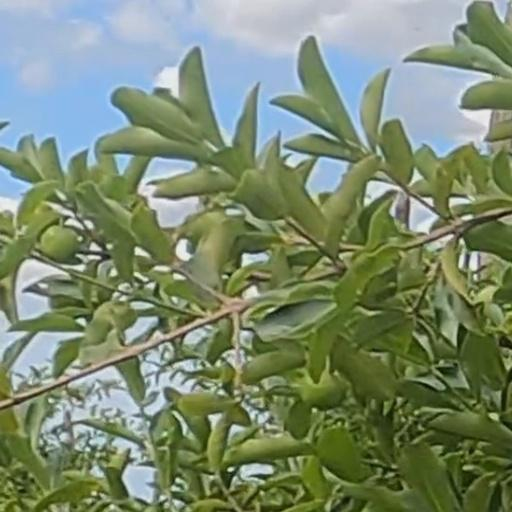acerola_verde: (44, 227, 77, 262)
